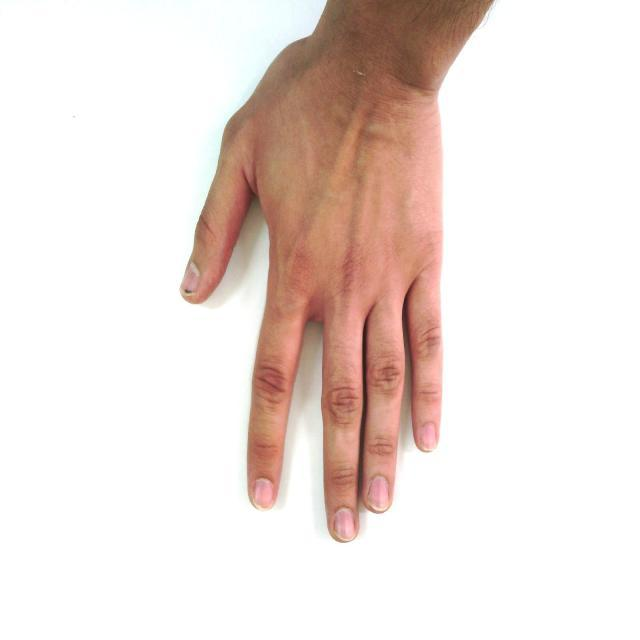Fingernail: (367, 477, 389, 512), (334, 508, 356, 540), (254, 479, 274, 510), (182, 263, 199, 291), (420, 423, 436, 451)
